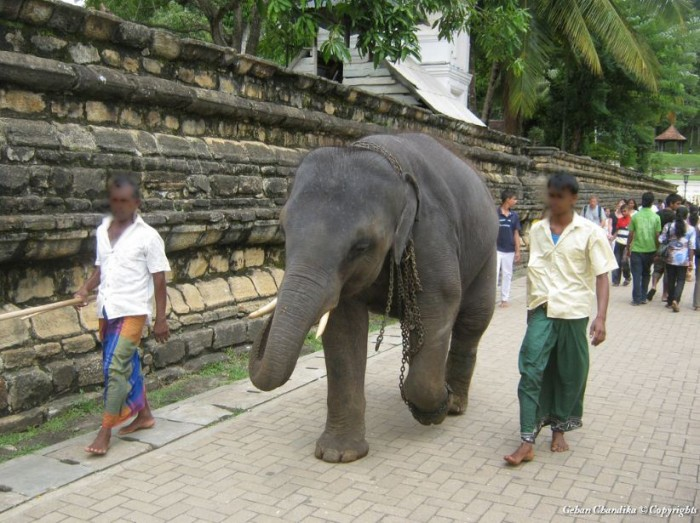Indian Elephant: (236, 107, 515, 460)
